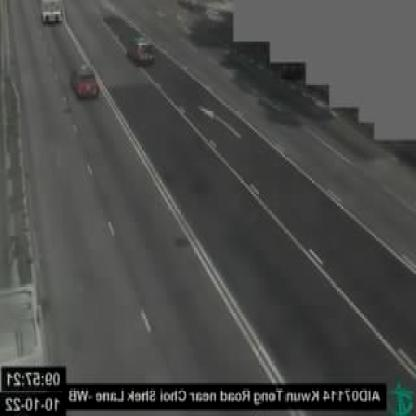Car: (121, 30, 156, 64), (70, 62, 99, 98)
Truck: (39, 0, 61, 25)
